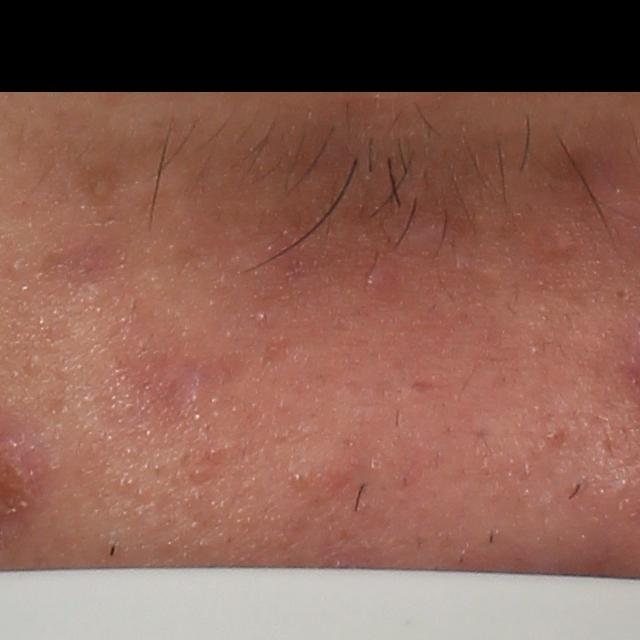atrophic_scar: (406, 378, 446, 394)
